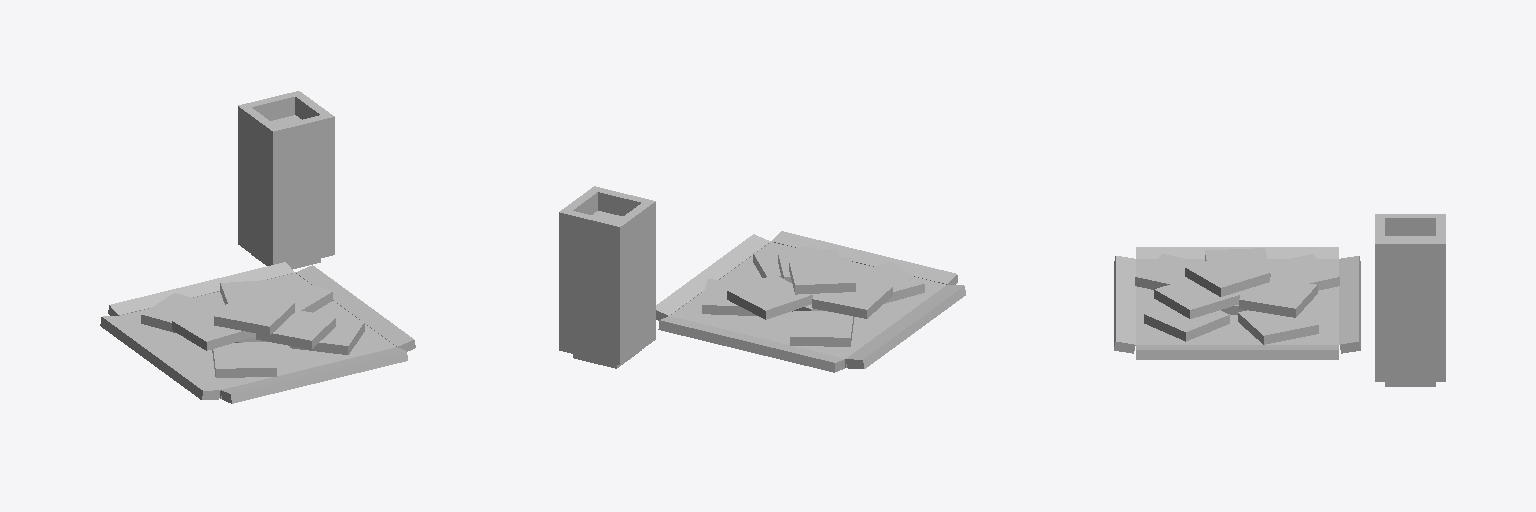
File: 704_cookies.obj
The picture shows the model from 3 angles: view 1: azimuth 30°, elevation 25°; view 2: azimuth 150°, elevation 25°; view 3: azimuth 270°, elevation 25°; orthographic projection.
Visible parts, largest first — view 1: Glass2, Plate2, Glass5, Plate5, Plate3, cookie2, Plate4, cookie4, Plate6, cookie9, cookie6, Glass4 (+4 smaller); view 2: Glass4, Plate2, Glass5, Plate6, Plate3, cookie7, cookie2, cookie8, Plate4, Plate5, cookie6, Glass2 (+4 smaller); view 3: Glass1, Plate2, Plate4, cookie2, cookie7, Plate5, Plate6, cookie9, cookie1, cookie3, Plate3, Glass2 (+5 smaller).
Part boxes in pixels (left/top/right/bottom): Glass2: left=268, top=113, right=334, bottom=265; Plate2: left=120, top=273, right=395, bottom=398; Glass5: left=243, top=107, right=275, bottom=265; Plate5: left=221, top=347, right=407, bottom=403; Plate3: left=100, top=316, right=220, bottom=399; cookie2: left=214, top=293, right=294, bottom=335; Plate4: left=295, top=265, right=415, bottom=351; cookie4: left=212, top=342, right=276, bottom=377; Plate6: left=108, top=262, right=294, bottom=315; cookie9: left=256, top=309, right=335, bottom=349; cookie6: left=172, top=306, right=255, bottom=350; Glass4: left=238, top=91, right=303, bottom=247; Glass4: left=559, top=209, right=624, bottom=364; Plate2: left=670, top=242, right=945, bottom=367; Glass5: left=617, top=203, right=650, bottom=361; Plate6: left=658, top=316, right=844, bottom=372; Plate3: left=846, top=285, right=965, bottom=368; cookie7: left=727, top=275, right=812, bottom=319; cookie2: left=789, top=257, right=855, bottom=294; cookie8: left=790, top=311, right=853, bottom=346; Plate4: left=656, top=234, right=770, bottom=320; Plate5: left=771, top=231, right=957, bottom=284; cookie6: left=812, top=279, right=892, bottom=318; Glass2: left=590, top=186, right=655, bottom=342; Glass1: left=1385, top=240, right=1435, bottom=381; Plate2: left=1136, top=259, right=1338, bottom=344; Plate4: left=1136, top=345, right=1338, bottom=359; cookie2: left=1185, top=252, right=1269, bottom=296; cookie7: left=1239, top=277, right=1317, bottom=317; Plate5: left=1114, top=256, right=1135, bottom=353; Plate6: left=1339, top=256, right=1360, bottom=353; cookie9: left=1154, top=279, right=1239, bottom=318; cookie1: left=1238, top=310, right=1318, bottom=344; cookie3: left=1144, top=305, right=1229, bottom=341; Plate3: left=1136, top=247, right=1338, bottom=258; Glass2: left=1375, top=214, right=1384, bottom=381.
Size of the model in its own units: 0.7165 by 0.4 by 0.8165.